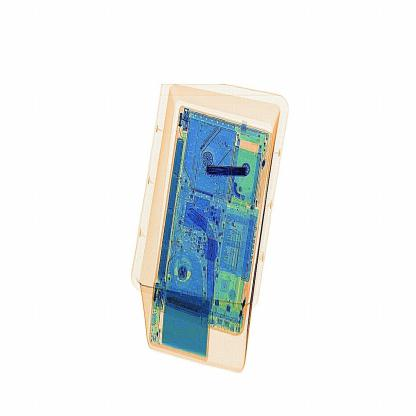scissors: (206, 161, 251, 182)
